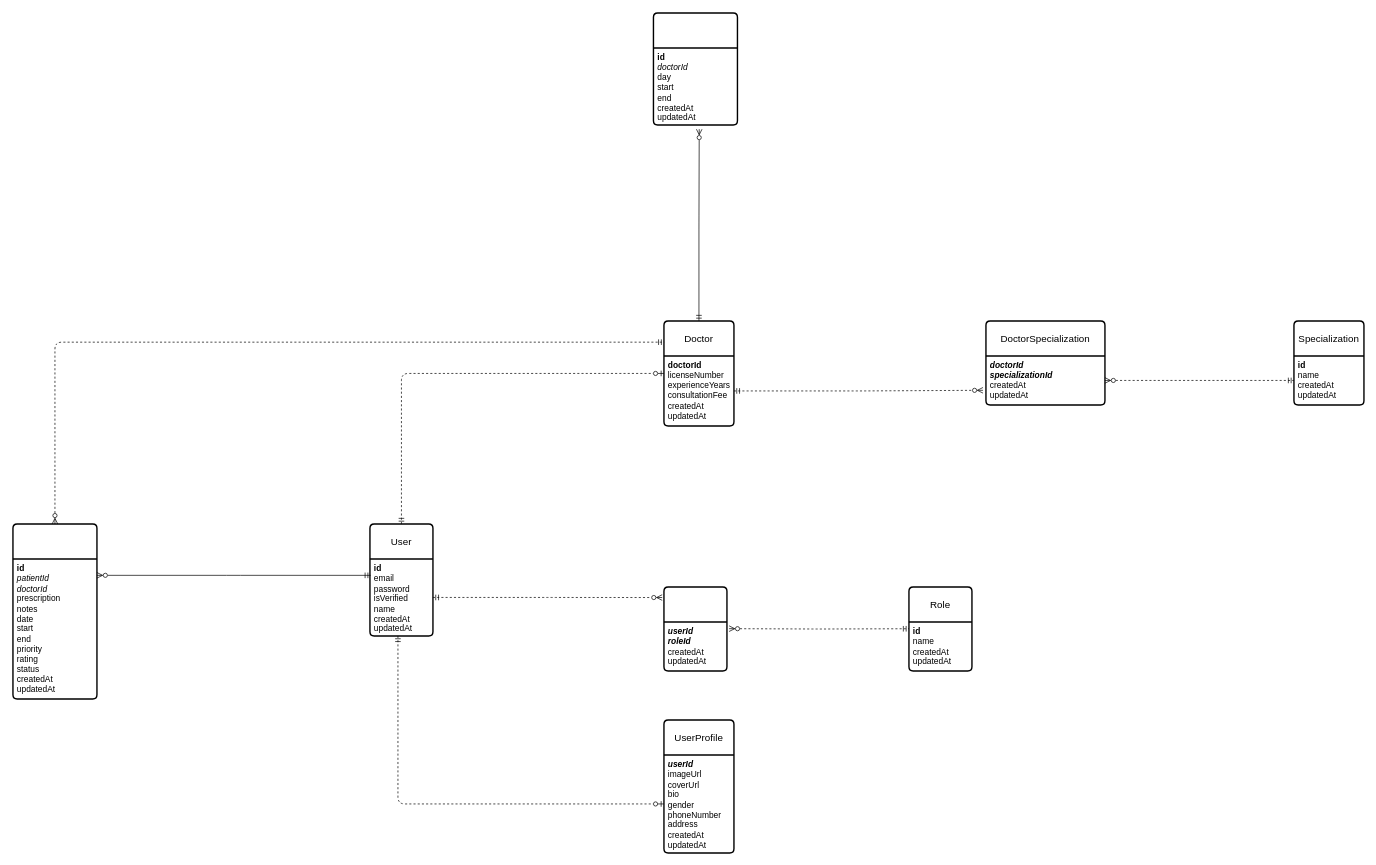
The diagram is 1376 pixels wide and 865 high, and some of its shapes have lost their labels. The shapes that lost their labels are listed below. From the top down, each one's box as (x1, y1, x2, y2) in pixels, then its label:
(652, 12, 738, 125): DoctorSchedule
(12, 523, 97, 699): Appointment
(663, 586, 727, 671): UserRole
